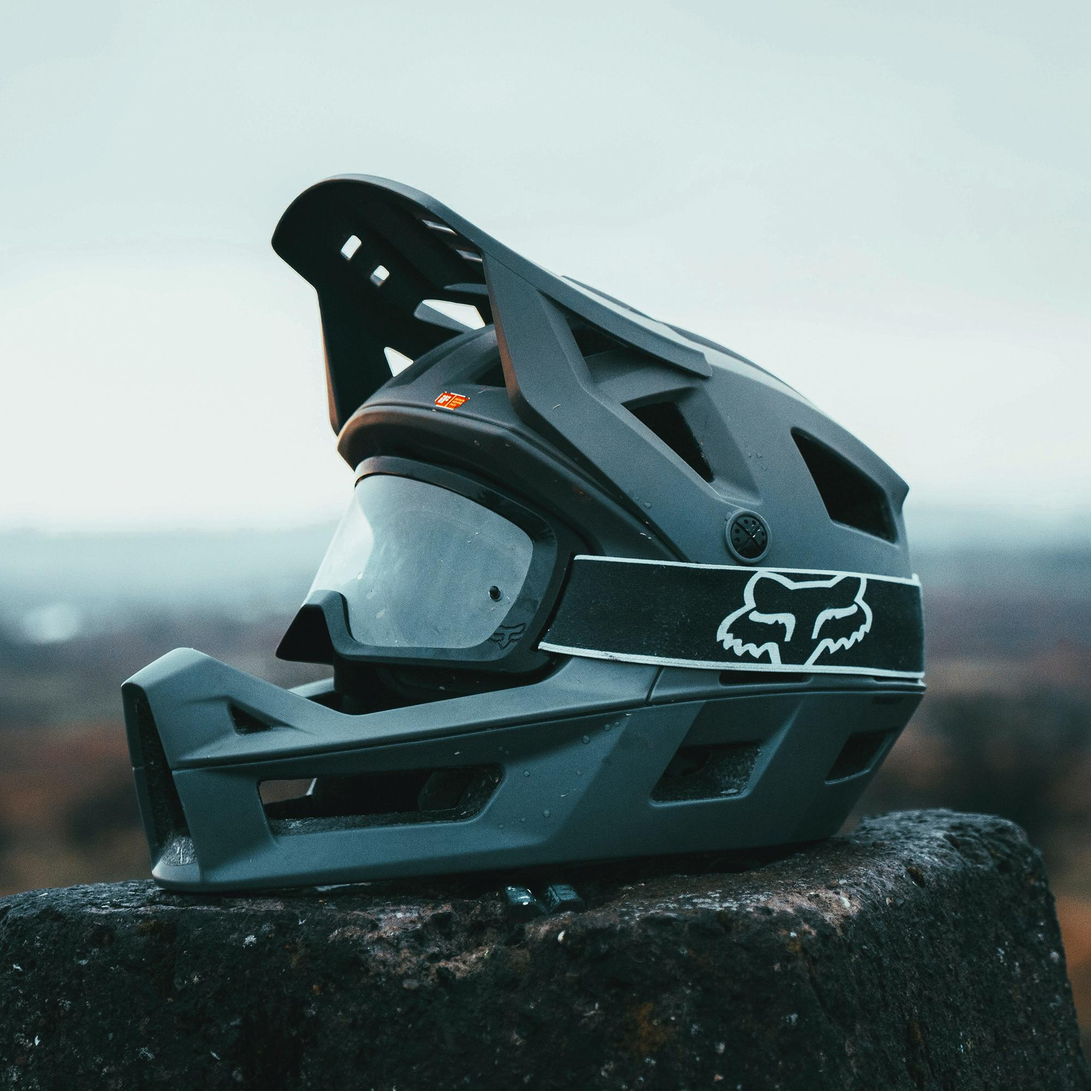helmet: (115, 168, 931, 898)
